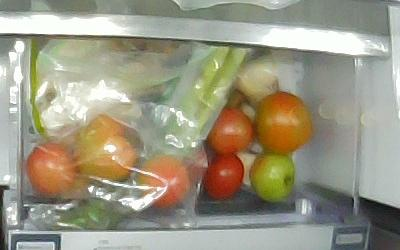tomato: (251, 90, 314, 153), (205, 104, 255, 153), (248, 150, 295, 202), (200, 150, 244, 199)
tomato_vinyl: (71, 114, 135, 181), (136, 154, 190, 209), (24, 140, 76, 195)
